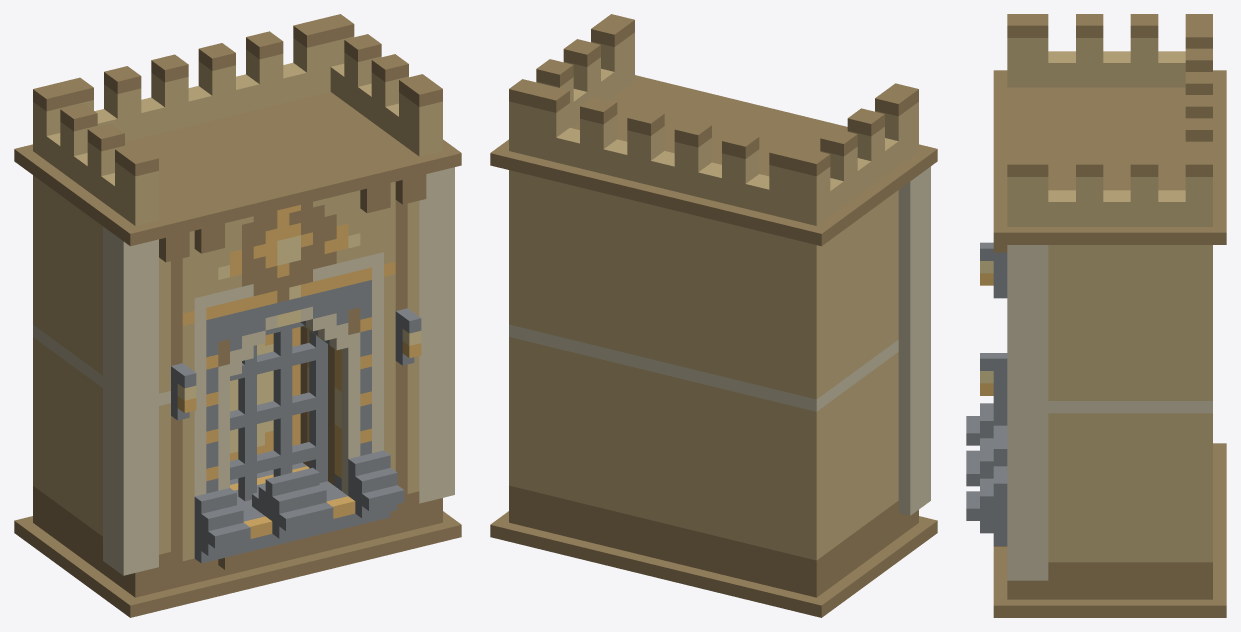
The model's file is gatehouse.glb.
The picture shows the model from 3 angles, left to right: view 1: azimuth 30°, elevation 25°; view 2: azimuth 150°, elevation 25°; view 3: azimuth 270°, elevation 25°; orthographic projection.
Bounding box in the file's own units: 28 × 36 × 19.
